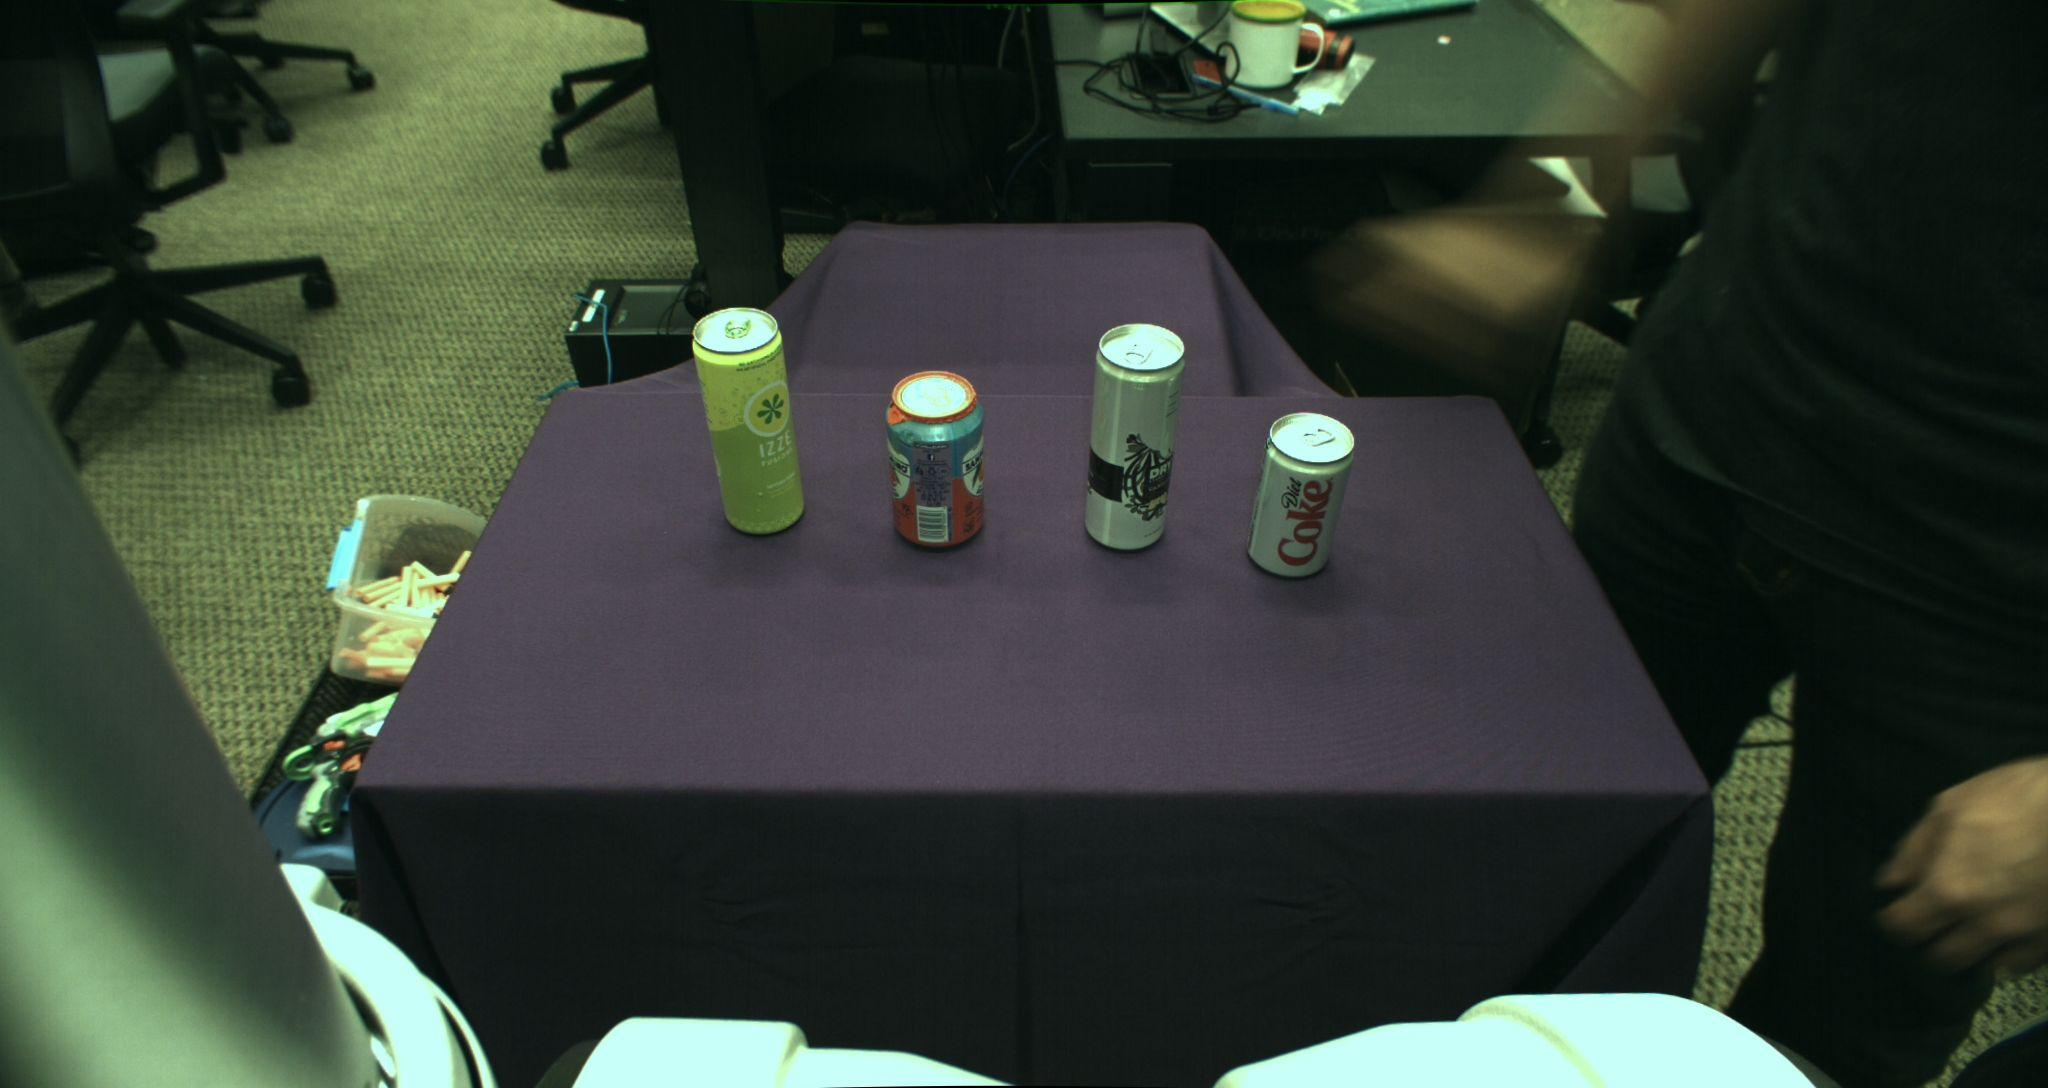can_diet_coke_small: (1245, 411, 1354, 577)
can_dry_sparkling_vanilla_bean: (1085, 322, 1185, 551)
can_izze_fusions_lemon_lime: (691, 308, 805, 537)
can_sanpellegrino_blood_orange: (884, 370, 985, 549)
